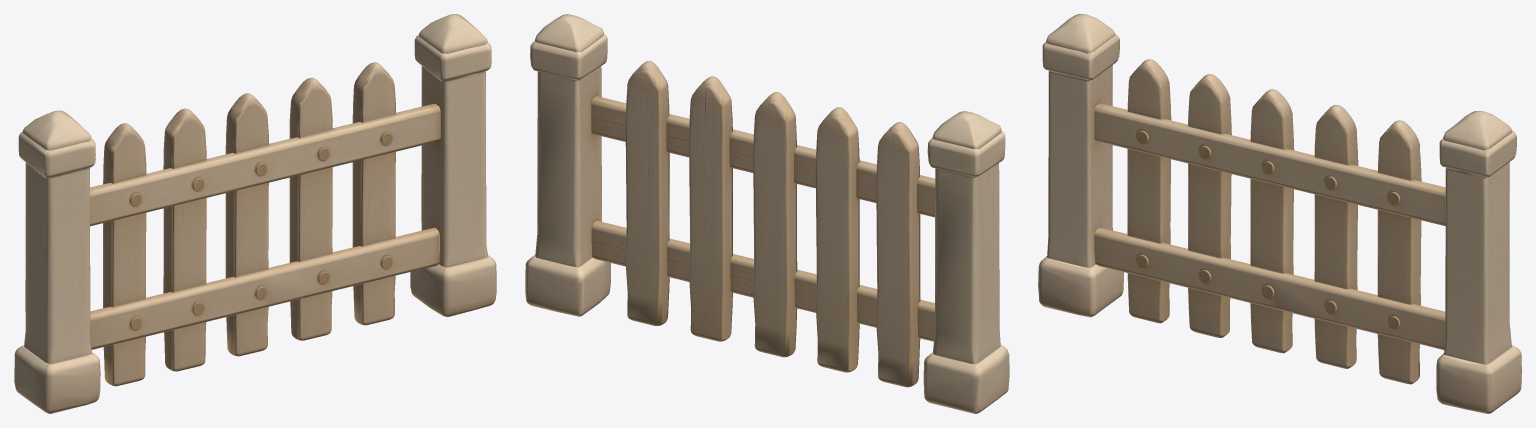
3 views of the same model, side by side, from view 1: azimuth 30°, elevation 25°; view 2: azimuth 150°, elevation 25°; view 3: azimuth 330°, elevation 25° (orthographic).
Visible parts, largest first — view 1: garden-fence; view 2: garden-fence; view 3: garden-fence.
Boxes of the visible parts, box(x1,y1,x2,y2) form: garden-fence: box(14, 14, 496, 413); garden-fence: box(525, 14, 1009, 413); garden-fence: box(1038, 14, 1521, 413).
Size of the model in its own units: 1.5 by 0.9001 by 0.2044.
1 material, 1 textured.
